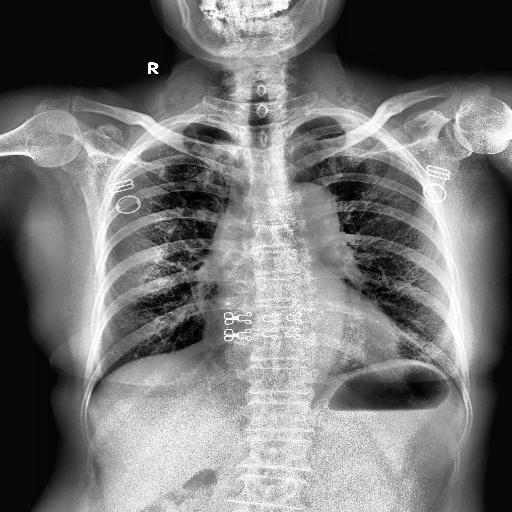0- Aortic enlargement: (246, 180, 338, 253), (276, 183, 339, 237), (280, 182, 339, 236)
13- Pulmonary fibrosis: (190, 125, 202, 146)
3- Cardiomegaly: (202, 306, 402, 364)
